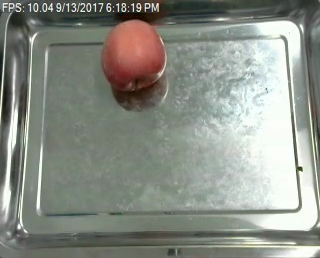Apple: (98, 16, 169, 96)
